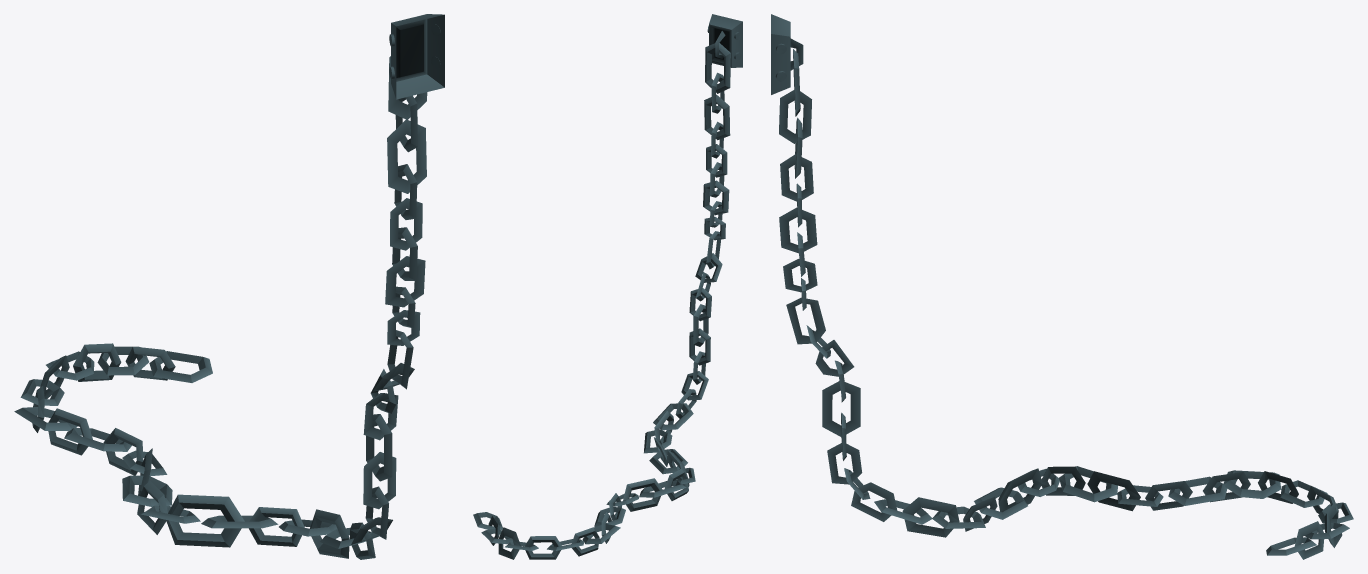
The model's file is obj_chain_hang_C_LOW.FBX.
3 views of the same model, side by side, from view 1: azimuth 30°, elevation 25°; view 2: azimuth 150°, elevation 25°; view 3: azimuth 270°, elevation 25° (orthographic). The views are drawn at different scales.
Visible parts, largest first — view 1: obj_chain_hang_C_LOW; view 2: obj_chain_hang_C_LOW; view 3: obj_chain_hang_C_LOW.
Boxes of the visible parts, x1,y1,x2,y2 form: obj_chain_hang_C_LOW: [14, 14, 444, 559]; obj_chain_hang_C_LOW: [473, 14, 742, 559]; obj_chain_hang_C_LOW: [771, 14, 1353, 559].
Bounding box in the file's own units: 1.36 × 3.75 × 3.84.
